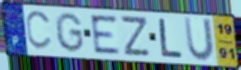C: (24, 9, 53, 52)
E: (88, 14, 123, 55)
G: (54, 11, 86, 54)
L: (157, 17, 184, 59)
U: (182, 16, 215, 64)
Z: (121, 15, 152, 58)
